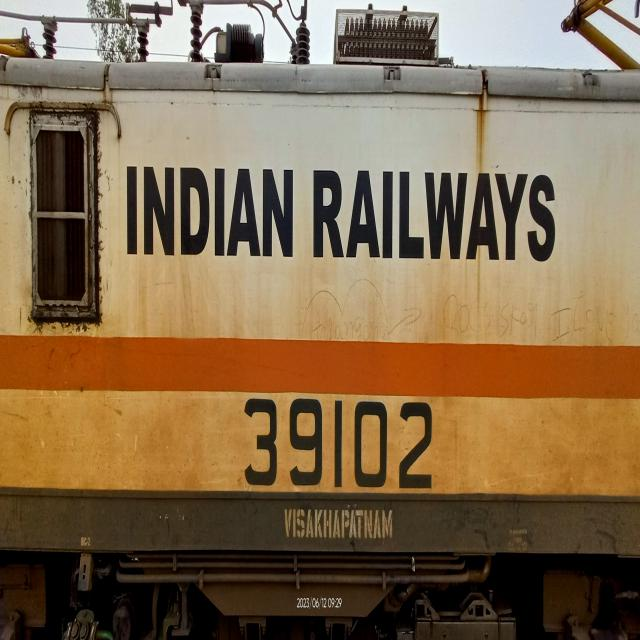train: (0, 35, 640, 573)
